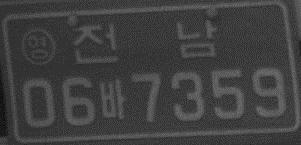0: (21, 78, 55, 128)
3: (171, 69, 204, 122)
5: (211, 70, 244, 119)
6: (60, 76, 95, 126)
7: (129, 72, 161, 122)
9: (250, 67, 287, 119)
바: (98, 79, 127, 121)
영: (20, 28, 56, 66)
전남_D: (72, 19, 217, 64)
